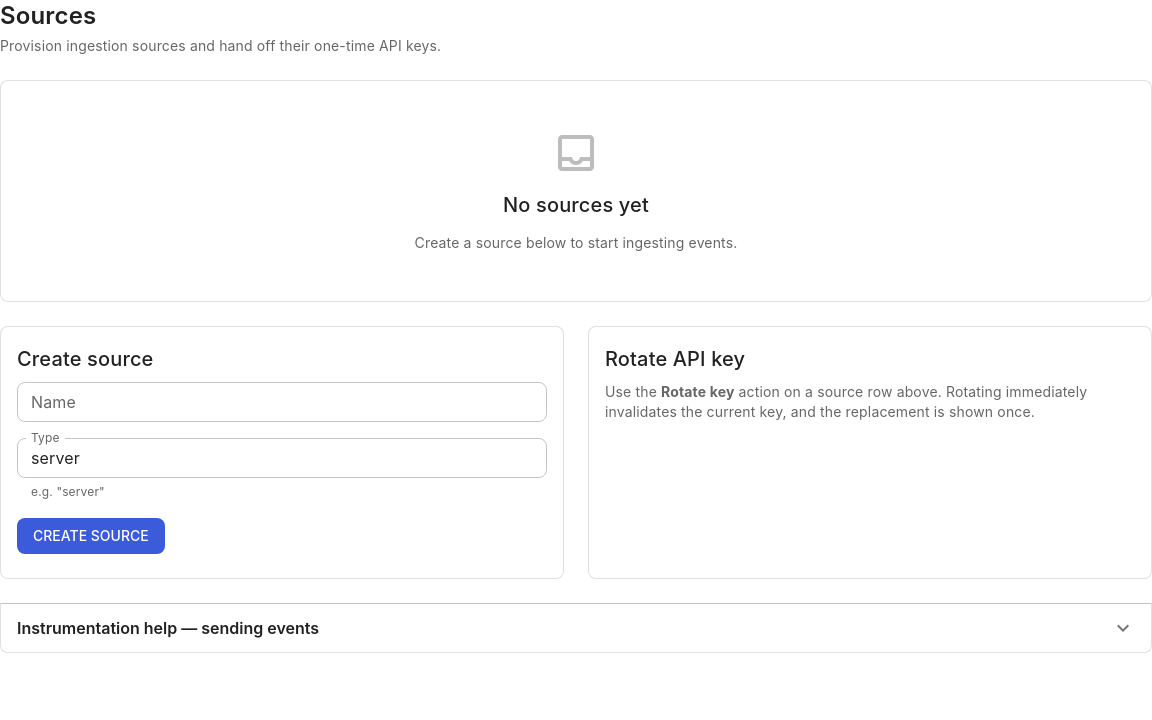
Test: SourcesScreen › creates a source and reveals the one-time ingest key
Type "Web server" into the field labelled "Name" at coordinates (282, 402), box [17,382,547,422]
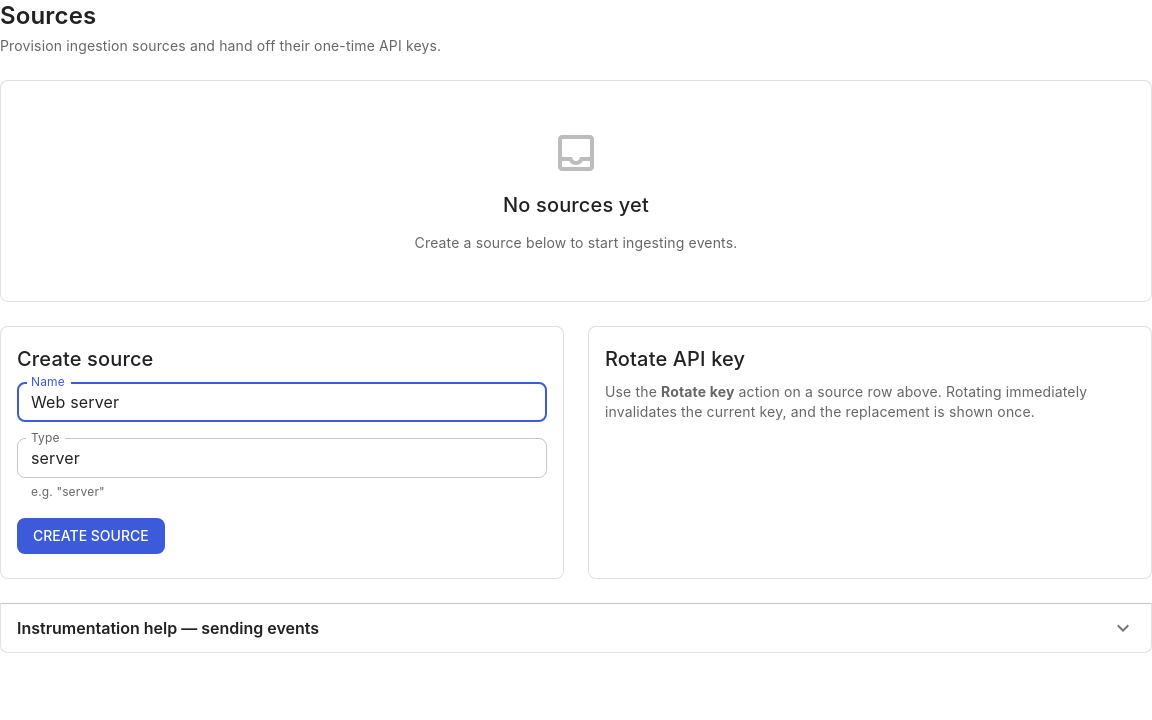
Click the button "Create source" at coordinates (91, 536), box [17,518,165,554]
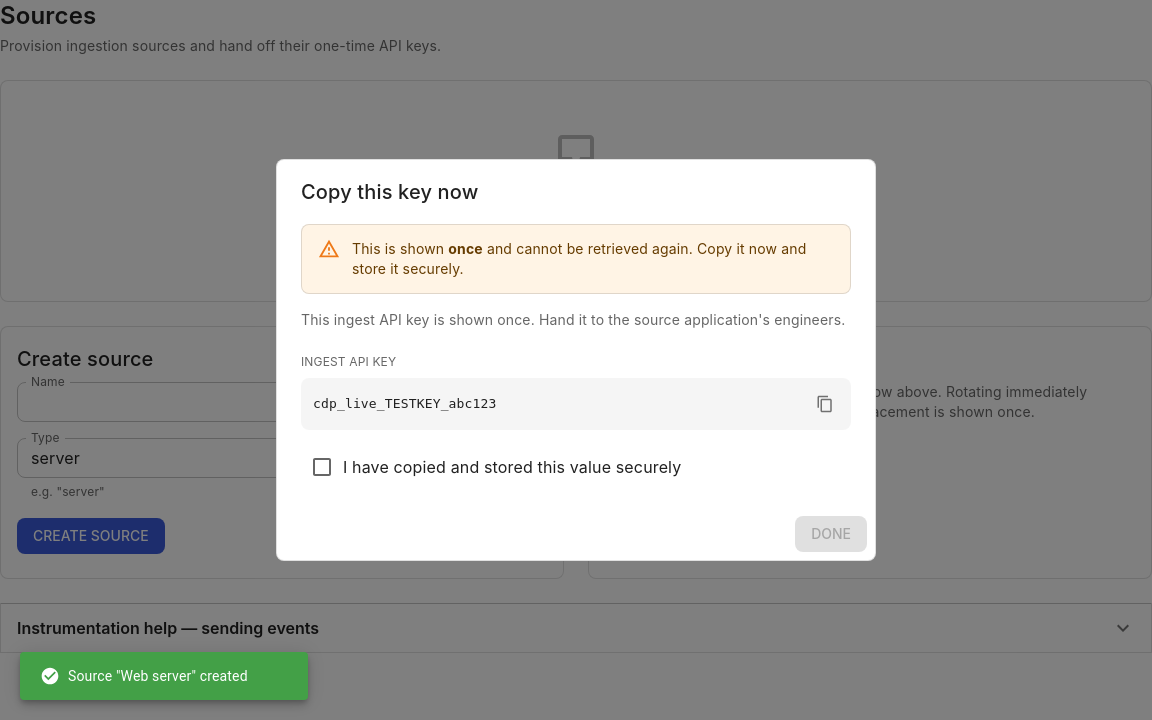
Check: the text "cdp_live_TESTKEY_abc123" is shown, box [313,396,496,411]
